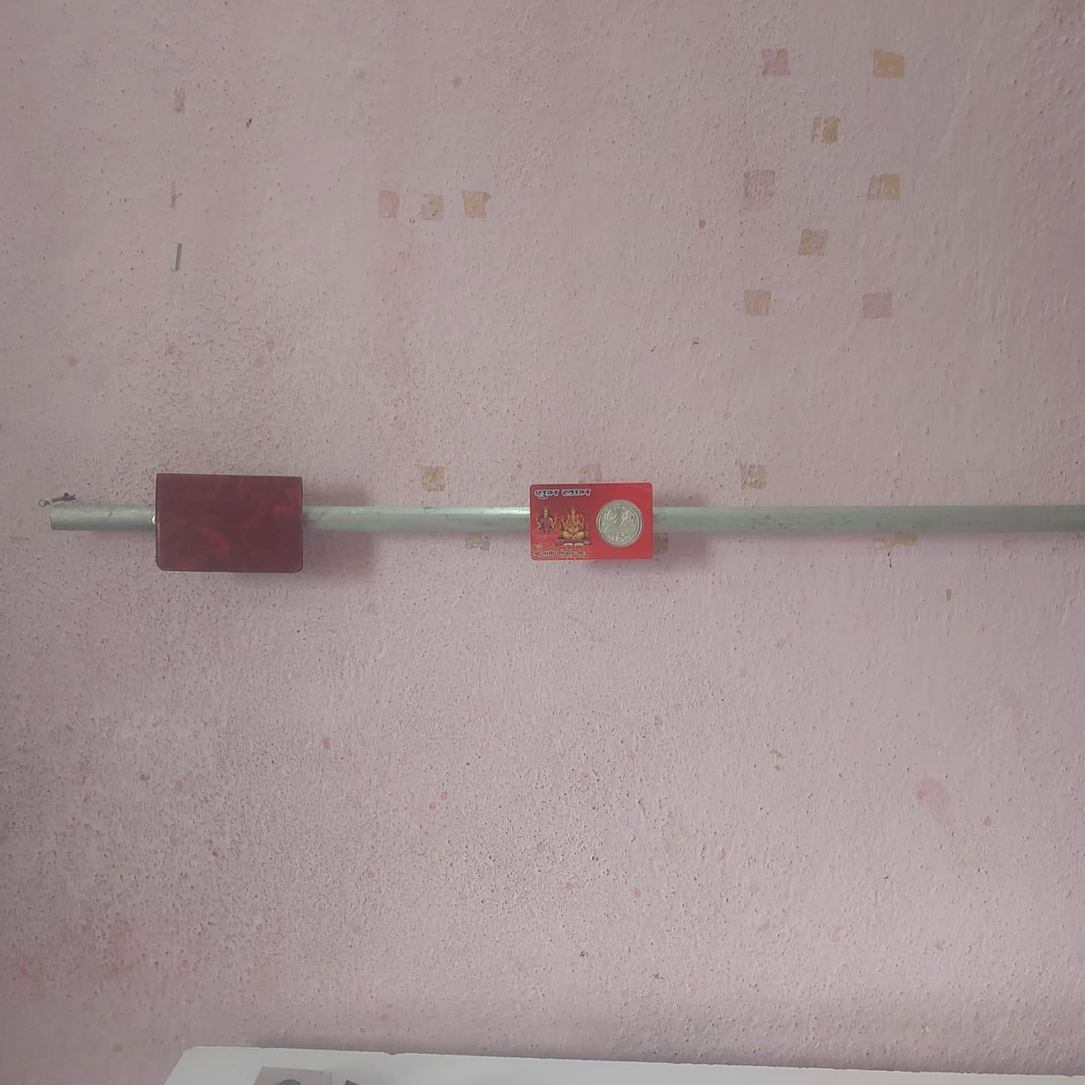blessing_card: (529, 482, 660, 559)
wallet: (152, 471, 310, 573)
